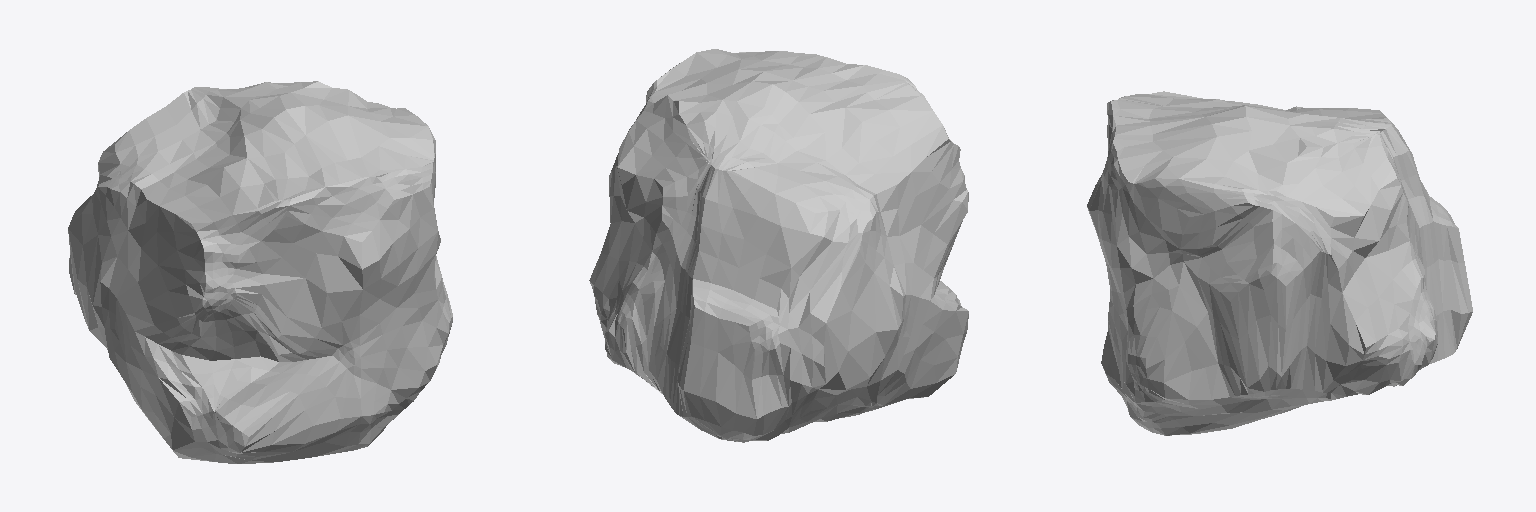
File: Rock_03_Hite.OBJ
The picture shows the model from 3 angles: view 1: azimuth 30°, elevation 25°; view 2: azimuth 150°, elevation 25°; view 3: azimuth 270°, elevation 25°; orthographic projection.
Parts seen in each view (by area): view 1: Group2; view 2: Group2; view 3: Group2.
Part boxes in pixels (left/top/right/bottom): Group2: left=68, top=81, right=452, bottom=463; Group2: left=589, top=49, right=968, bottom=442; Group2: left=1087, top=91, right=1472, bottom=435.
Bounding box in the file's own units: 15.82 × 16.06 × 18.03.